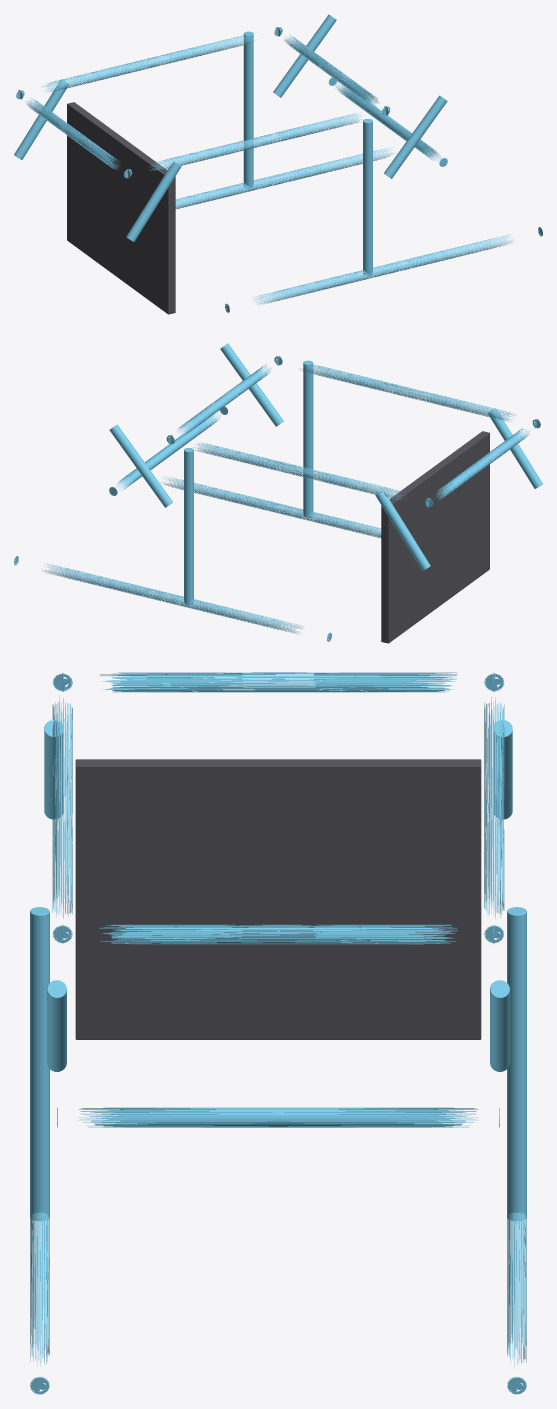
File: body-framework.glb
3 views of the same model, one above another, from view 1: azimuth 30°, elevation 25°; view 2: azimuth 150°, elevation 25°; view 3: azimuth 270°, elevation 25° (orthographic). The views are drawn at different scales.
Parts seen in each view (by area): view 1: Tailgate_Aperture_Frame, Body_Sill_R, Roof_Rail_L, Roof_Rail_R, Body_Sill_L, B_Pillar_L, B_Pillar_R, Roof_Header_Front, Roof_Header_Rear, Cowl_Bar_Front, A_Pillar_R, C_Pillar_R (+2 smaller); view 2: Tailgate_Aperture_Frame, Body_Sill_L, Roof_Rail_R, Roof_Rail_L, Body_Sill_R, B_Pillar_R, B_Pillar_L, Roof_Header_Rear, Roof_Header_Front, Cowl_Bar_Front, A_Pillar_L, C_Pillar_L (+2 smaller); view 3: Tailgate_Aperture_Frame, Cowl_Bar_Front, Roof_Header_Rear, Roof_Header_Front, B_Pillar_R, B_Pillar_L, Roof_Rail_L, Roof_Rail_R, Body_Sill_R, Body_Sill_L, A_Pillar_L, A_Pillar_R (+2 smaller).
Boxes of the visible parts, bbox=[...] form: Tailgate_Aperture_Frame: bbox=[67, 102, 175, 314]; Body_Sill_R: bbox=[225, 227, 542, 312]; Roof_Rail_L: bbox=[18, 27, 280, 99]; Roof_Rail_R: bbox=[126, 106, 388, 178]; Body_Sill_L: bbox=[175, 147, 394, 209]; B_Pillar_L: bbox=[243, 31, 253, 188]; B_Pillar_R: bbox=[363, 119, 372, 275]; Roof_Header_Front: bbox=[274, 27, 390, 115]; Roof_Header_Rear: bbox=[16, 90, 132, 178]; Cowl_Bar_Front: bbox=[328, 77, 447, 166]; A_Pillar_R: bbox=[384, 95, 447, 178]; C_Pillar_R: bbox=[126, 161, 181, 241]; Tailgate_Aperture_Frame: bbox=[381, 431, 489, 643]; Body_Sill_L: bbox=[14, 556, 331, 641]; Roof_Rail_R: bbox=[276, 356, 538, 428]; Roof_Rail_L: bbox=[168, 435, 430, 507]; Body_Sill_R: bbox=[162, 476, 381, 538]; B_Pillar_R: bbox=[303, 360, 313, 517]; B_Pillar_L: bbox=[184, 448, 193, 604]; Roof_Header_Rear: bbox=[424, 419, 540, 507]; Roof_Header_Front: bbox=[166, 356, 282, 444]; Cowl_Bar_Front: bbox=[109, 406, 228, 495]; A_Pillar_L: bbox=[109, 424, 172, 507]; C_Pillar_L: bbox=[375, 491, 430, 570]; Tailgate_Aperture_Frame: bbox=[75, 759, 481, 1039]; Cowl_Bar_Front: bbox=[57, 1107, 499, 1127]; Roof_Header_Rear: bbox=[62, 672, 494, 692]; Roof_Header_Front: bbox=[62, 924, 494, 944]; B_Pillar_R: bbox=[30, 907, 49, 1220]; B_Pillar_L: bbox=[507, 907, 526, 1220]; Roof_Rail_L: bbox=[484, 673, 504, 942]; Roof_Rail_R: bbox=[52, 673, 72, 942]; Body_Sill_R: bbox=[30, 1212, 49, 1394]; Body_Sill_L: bbox=[507, 1212, 526, 1394]; A_Pillar_L: bbox=[490, 980, 509, 1071]; A_Pillar_R: bbox=[47, 980, 66, 1071].
Size of the model in its own units: 3.34 by 1.26 by 1.75.
